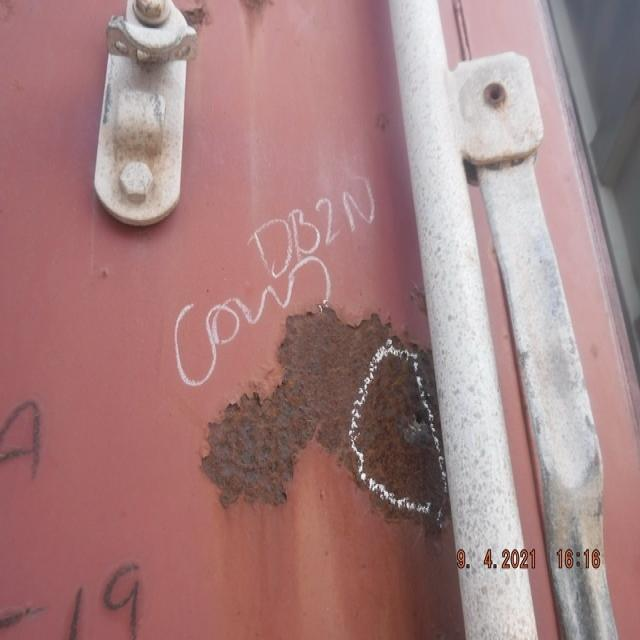rust: (195, 296, 447, 540)
